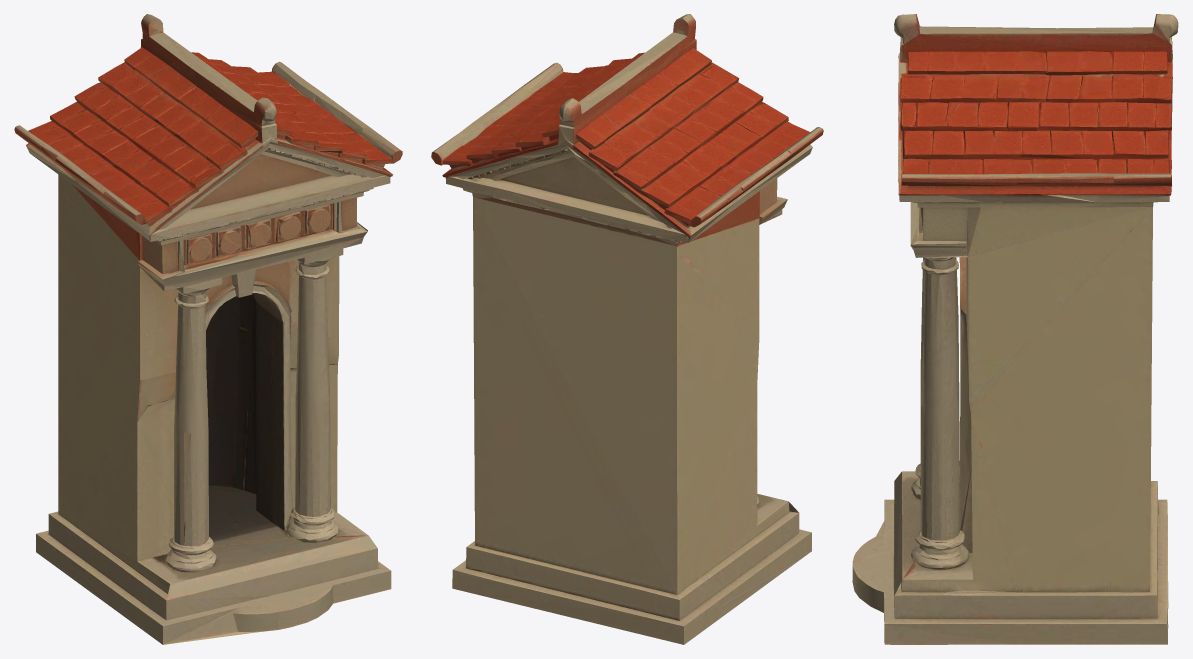
File: aedicula.glb
3 renders of one model, left to right at view 1: azimuth 30°, elevation 25°; view 2: azimuth 150°, elevation 25°; view 3: azimuth 270°, elevation 25°, orthographic. The views are drawn at different scales.
Parts seen in each view (by area): view 1: aedicula; view 2: aedicula; view 3: aedicula.
Boxes of the visible parts, left/top/right/bottom form: aedicula: left=14, top=14, right=402, bottom=644; aedicula: left=431, top=14, right=823, bottom=644; aedicula: left=852, top=14, right=1178, bottom=644.
Bounding box in the file's own units: 0.4399 × 0.8002 × 0.4157.
1 material, 1 textured.
